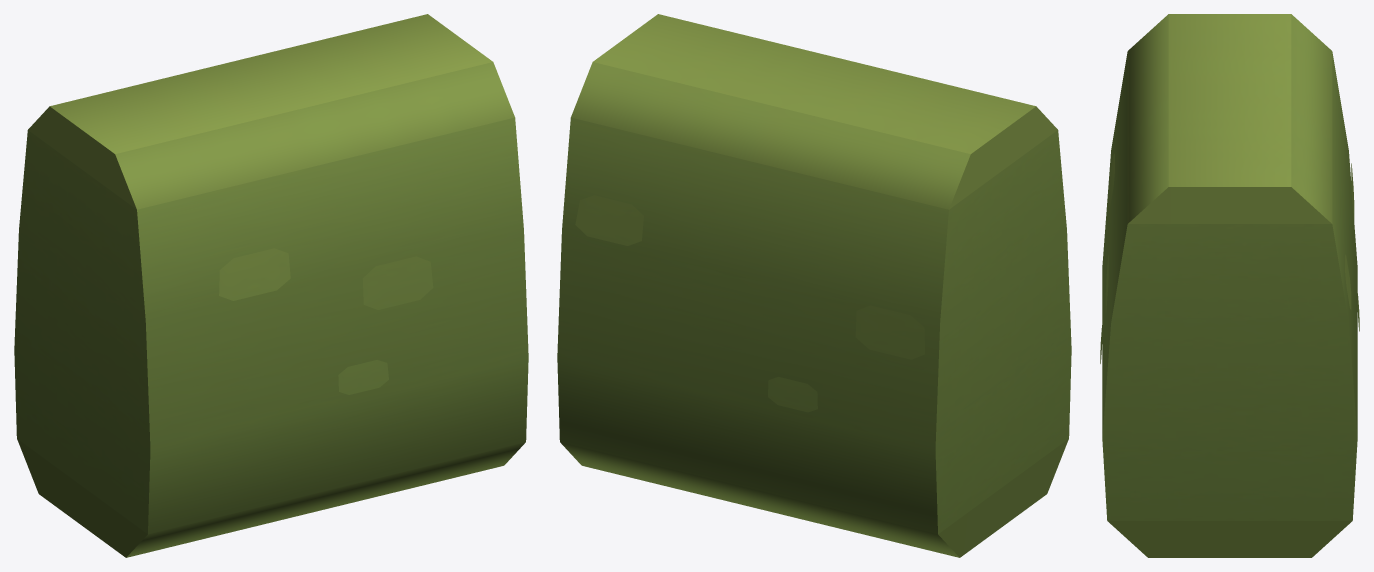
The model's file is hedge_element_x2.fbx.
3 views of the same model, side by side, from view 1: azimuth 30°, elevation 25°; view 2: azimuth 150°, elevation 25°; view 3: azimuth 270°, elevation 25° (orthographic). The views are drawn at different scales.
Parts seen in each view (by area): view 1: hedge_element_x2; view 2: hedge_element_x2; view 3: hedge_element_x2.
Part boxes in pixels (<box>): hedge_element_x2: <box>14,14,528,557</box>; hedge_element_x2: <box>557,14,1071,557</box>; hedge_element_x2: <box>1100,14,1359,557</box>.
Size of the model in its own units: 200 by 200 by 127.
